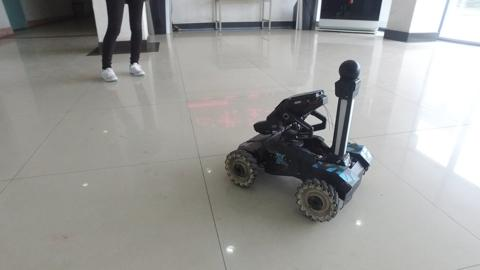chariot: (224, 58, 373, 224)
